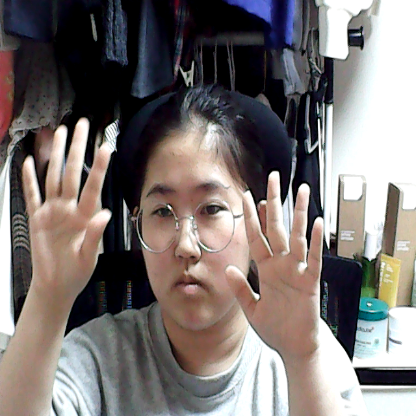Finger_5: (224, 166, 333, 355), (15, 102, 116, 303)
